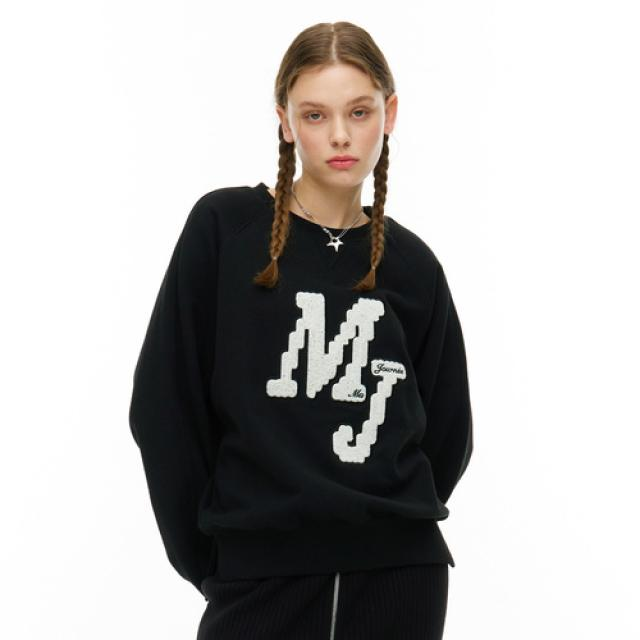dress: (125, 175, 478, 596)
